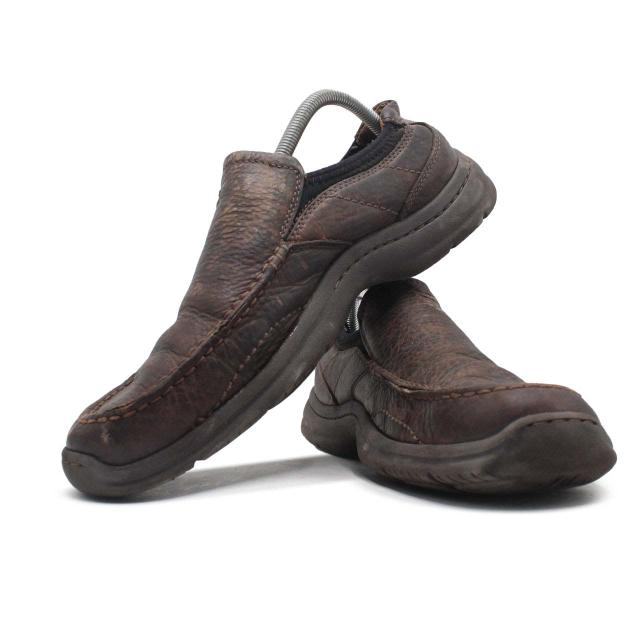heel: (363, 97, 458, 210)
midsole: (63, 155, 498, 504), (299, 392, 613, 486)
uppersole: (66, 148, 419, 465), (330, 280, 601, 445)
